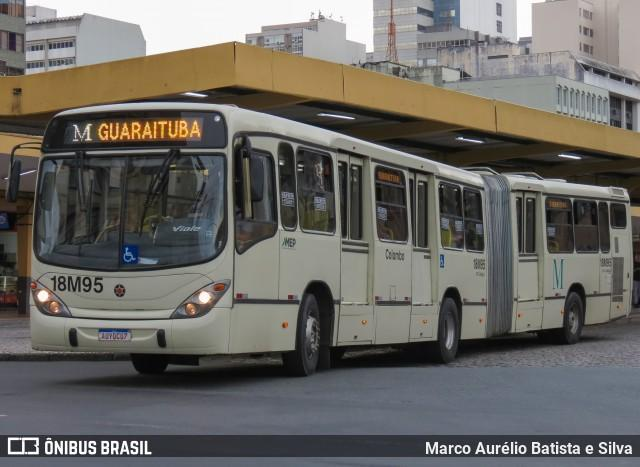GUARAITUBA: (94, 117, 203, 142)
